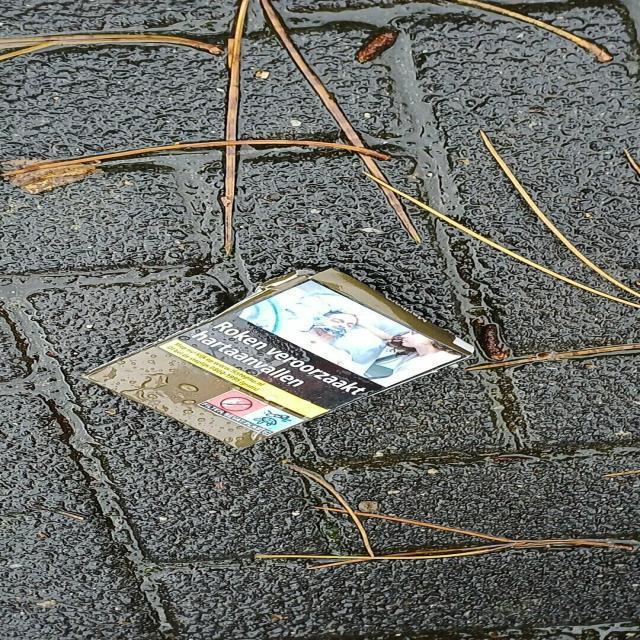Paper: (74, 265, 478, 453)
